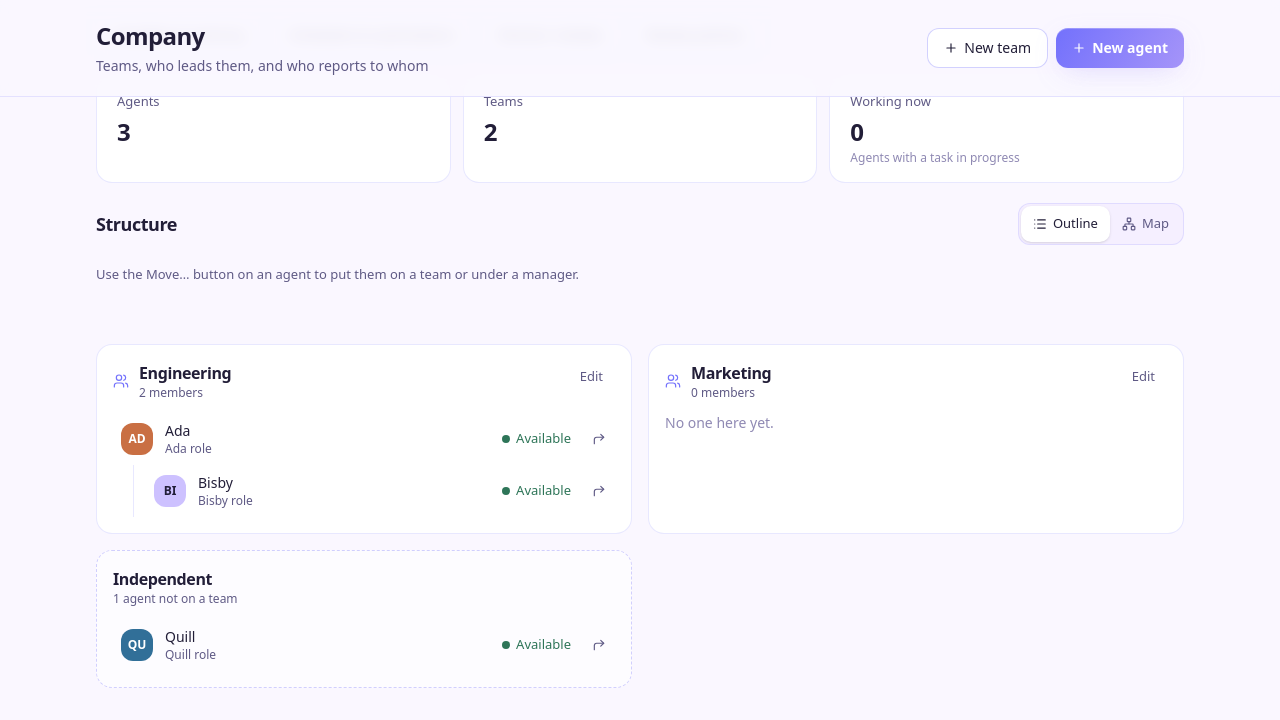
Test: Company page — Move… menu › moves focus into the menu and closes it on Escape
(page scrolled)
Step 1. Click the button named "Move Quill" → (599,645), box [583,629,615,661]
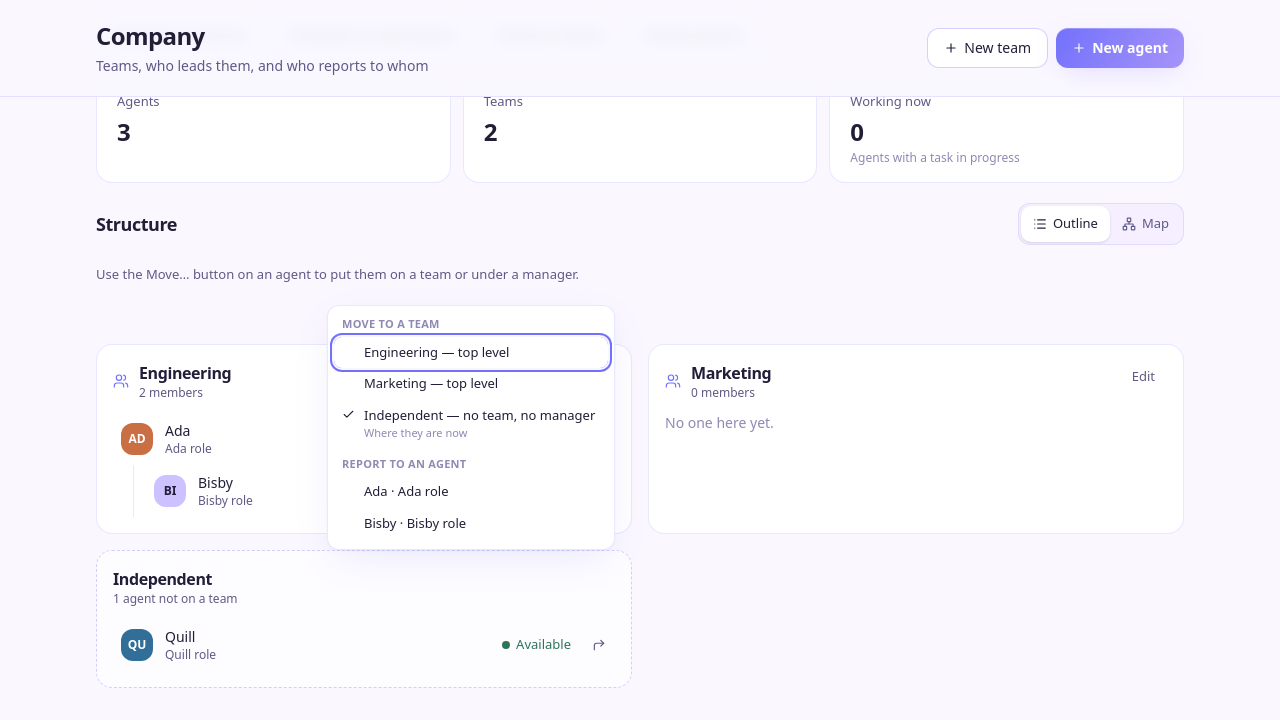
Step 2. Press ArrowDown in the menu named "Move Quill", box [327,305,615,550]
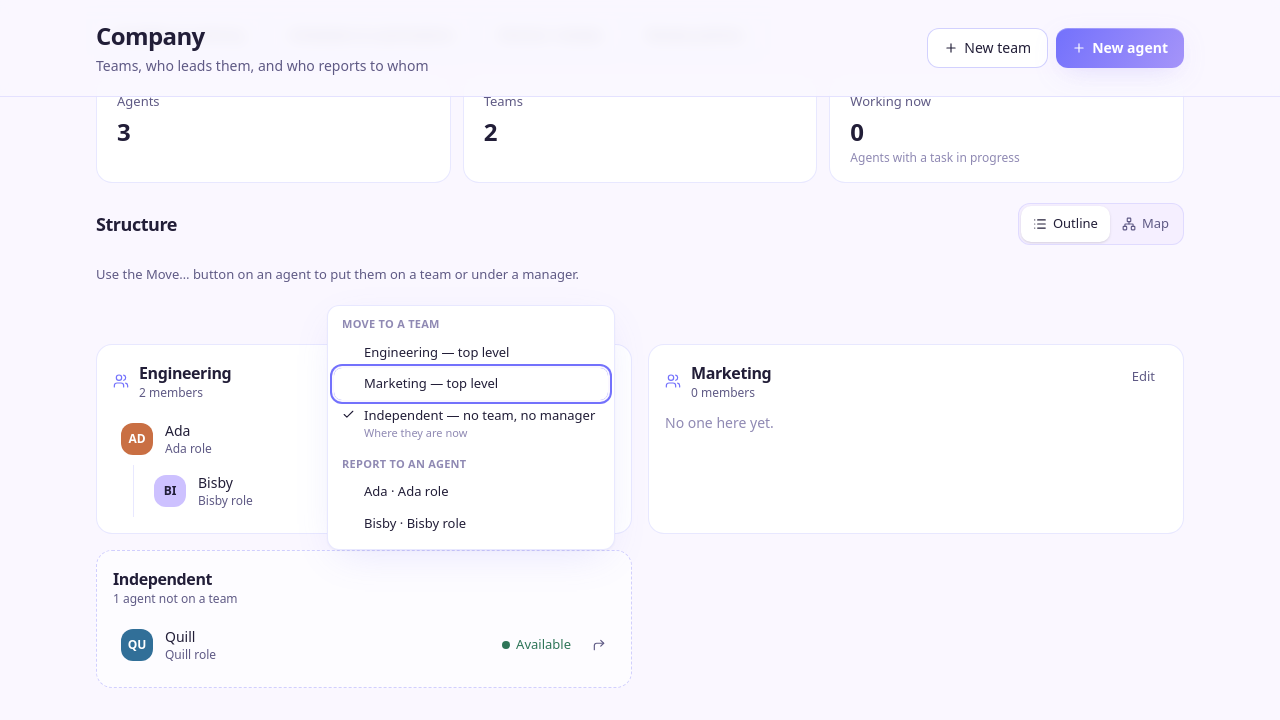
Step 3. Press Escape in the menu named "Move Quill", box [327,305,615,550]
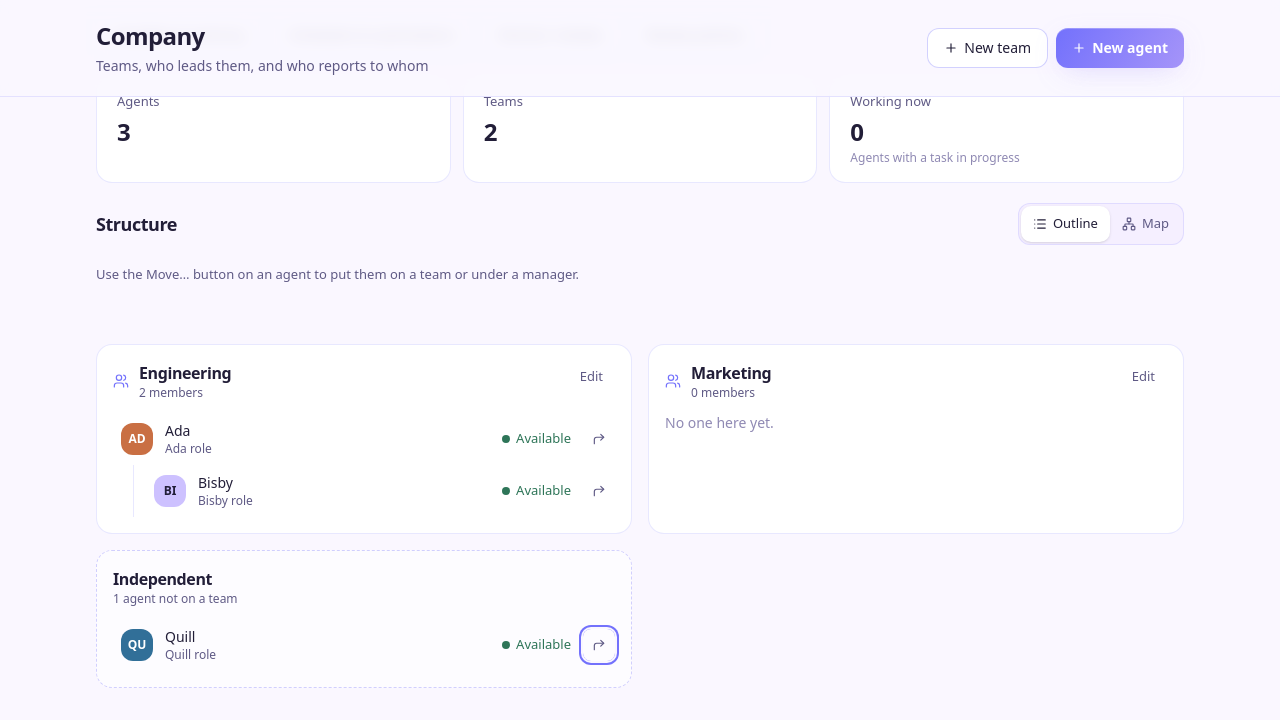
Check: the menu is gone
